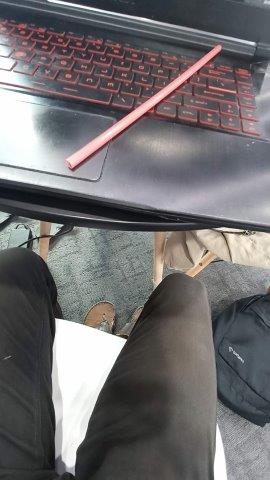sedotan: (66, 45, 221, 168)
